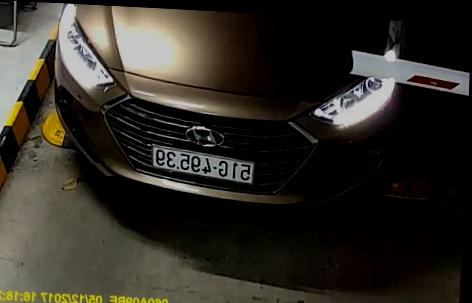License_Plate: (153, 149, 255, 184)
